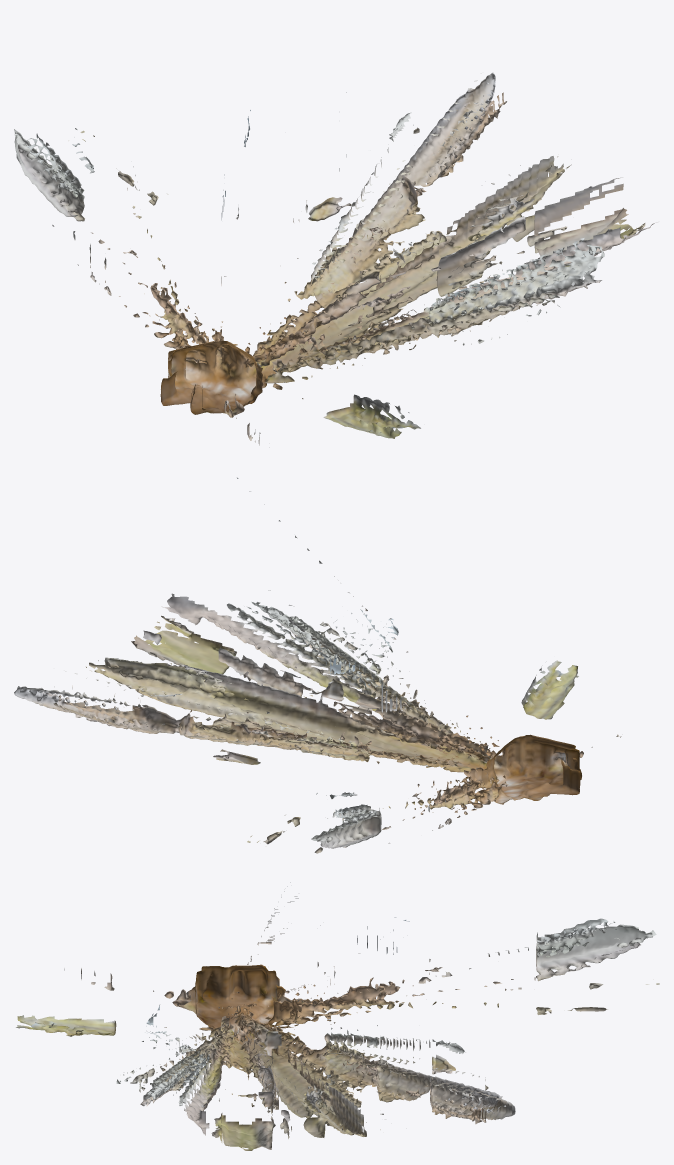
Rendered from Ancient Egyptian Desert Palace_collider.glb.
The picture shows the model from 3 angles, top to bottom: view 1: azimuth 30°, elevation 25°; view 2: azimuth 150°, elevation 25°; view 3: azimuth 270°, elevation 25°; orthographic projection. The views are drawn at different scales.
Visible parts, largest first — view 1: world; view 2: world; view 3: world.
Boxes of the visible parts, <box> form: world: <box>14,72,657,447</box>; world: <box>14,477,621,853</box>; world: <box>16,882,659,1150</box>.
Bounding box in the file's own units: 67.7 × 39.33 × 83.26.
